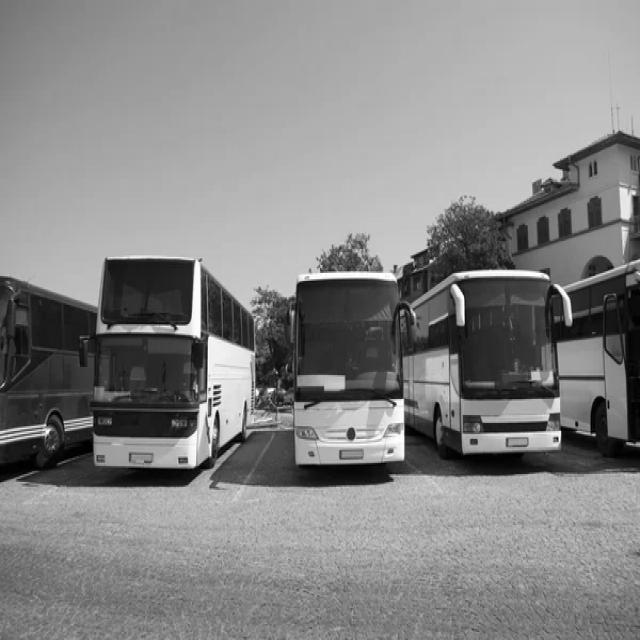Bus: (94, 258, 255, 468), (404, 270, 571, 457), (286, 273, 417, 465)
